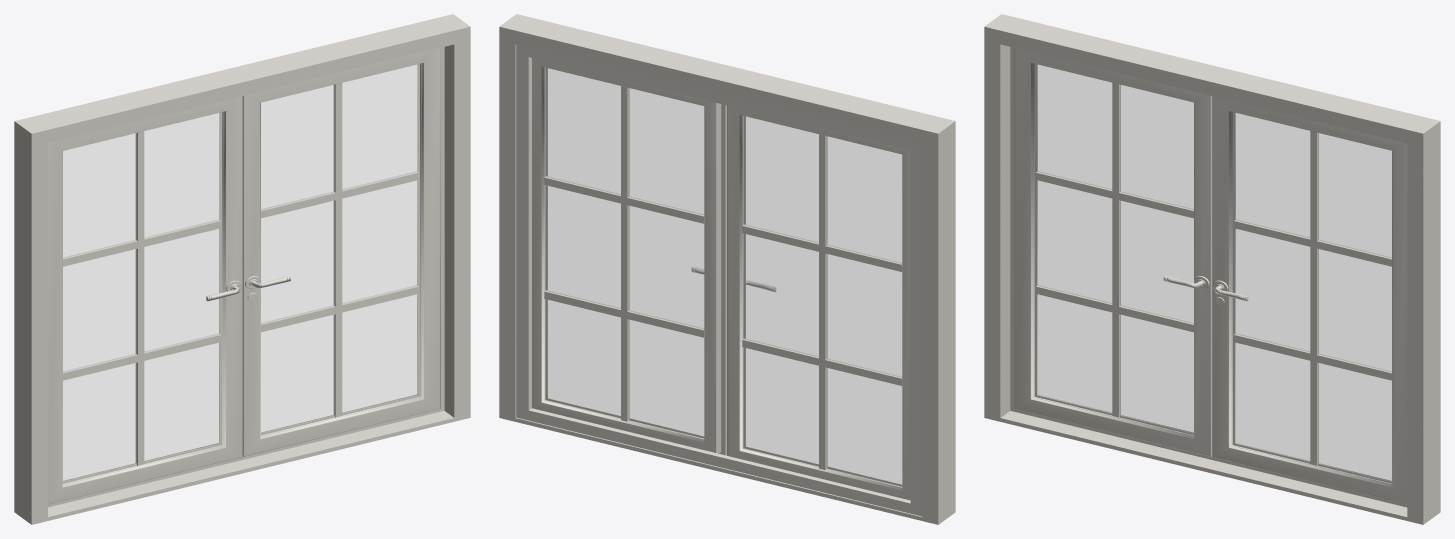
The model's file is white_window.obj.
The picture shows the model from 3 angles, left to right: view 1: azimuth 30°, elevation 25°; view 2: azimuth 150°, elevation 25°; view 3: azimuth 330°, elevation 25°; orthographic projection.
Parts seen in each view (by area): view 1: 16639_12_Pane_Casement_Window-White_V1; view 2: 16639_12_Pane_Casement_Window-White_V1; view 3: 16639_12_Pane_Casement_Window-White_V1.
Part boxes in pixels (x1,y1,x2,y2): 16639_12_Pane_Casement_Window-White_V1: (14,14,470,524); 16639_12_Pane_Casement_Window-White_V1: (499,14,955,524); 16639_12_Pane_Casement_Window-White_V1: (984,14,1440,524).
Size of the model in its own units: 1.91 by 1.63 by 0.1317.
3 materials, 3 textured.
